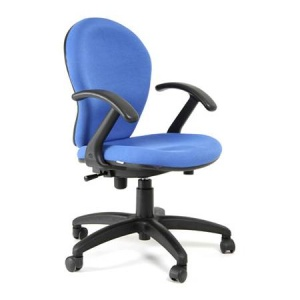chair: (63, 17, 235, 283)
